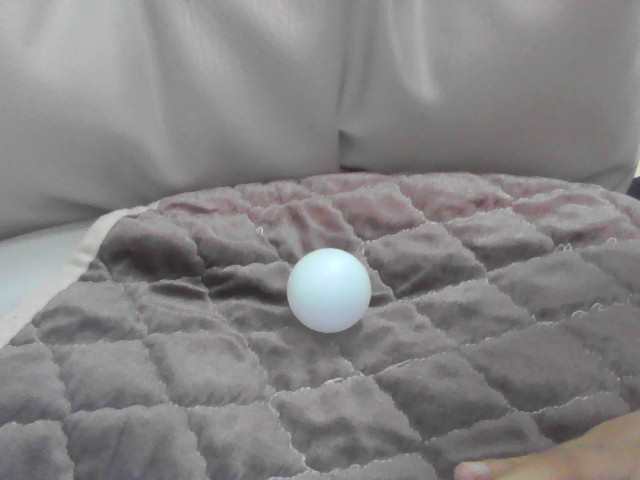ball: (284, 247, 374, 332)
